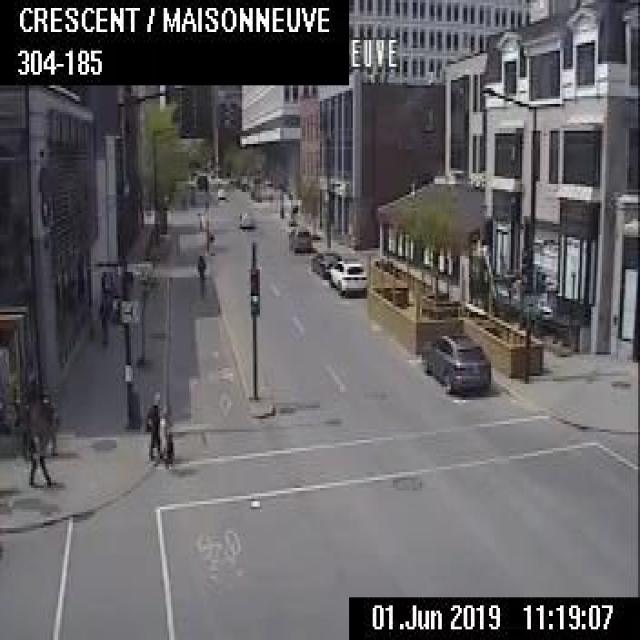cyclist: (194, 251, 207, 296)
pedestrian: (25, 406, 53, 484), (142, 389, 161, 458), (156, 400, 174, 469), (38, 393, 58, 455), (96, 290, 108, 346)
vehicle: (418, 328, 491, 397), (328, 256, 366, 294), (310, 250, 340, 275), (288, 224, 310, 250), (236, 208, 252, 227), (215, 186, 224, 197)
